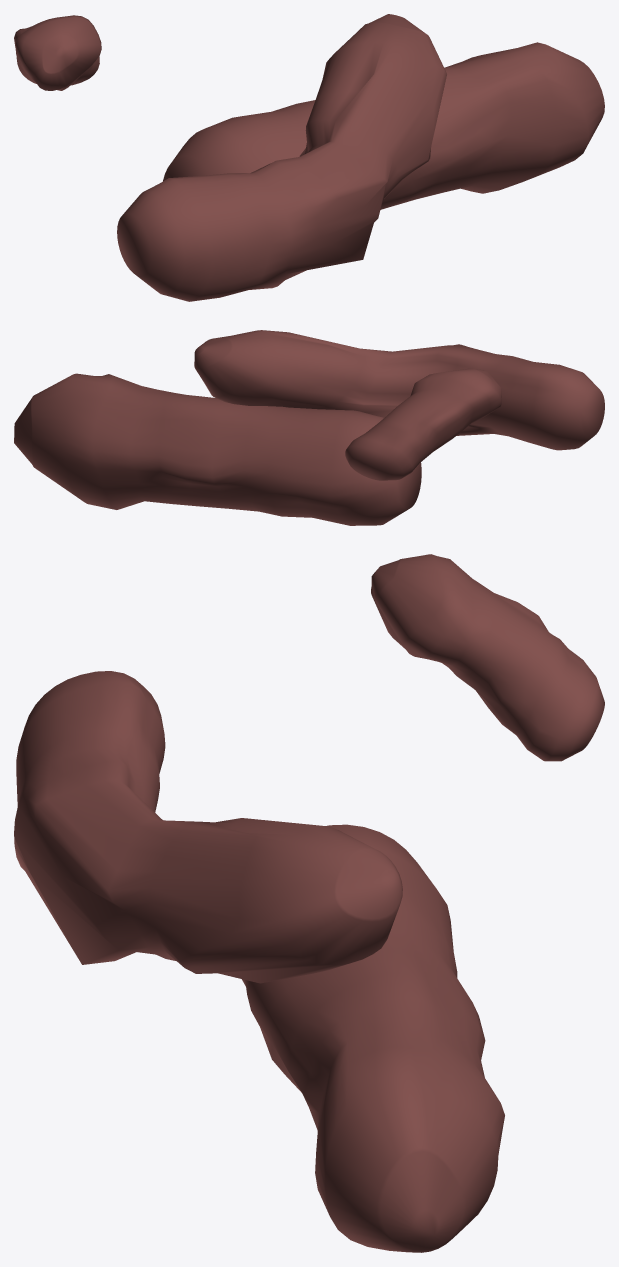
The model's file is Poops.fbx.
3 views of the same model, one above another, from view 1: azimuth 30°, elevation 25°; view 2: azimuth 150°, elevation 25°; view 3: azimuth 270°, elevation 25° (orthographic). The views are drawn at different scales.
Visible parts, largest first — view 1: Poop.003, Poop.001, Poop.002; view 2: Poop.001, Poop.003, Poop.002; view 3: Poop.003, Poop.001, Poop.002.
Boxes of the visible parts, x1,y1,x2,y2 form: Poop.003: [117, 14, 446, 301]; Poop.001: [163, 42, 604, 209]; Poop.002: [14, 15, 101, 90]; Poop.001: [14, 373, 421, 525]; Poop.003: [194, 330, 604, 450]; Poop.002: [345, 368, 501, 480]; Poop.003: [14, 671, 402, 983]; Poop.001: [242, 824, 504, 1252]; Poop.002: [371, 554, 604, 761].
Size of the model in its own units: 1038 by 456 by 644.
